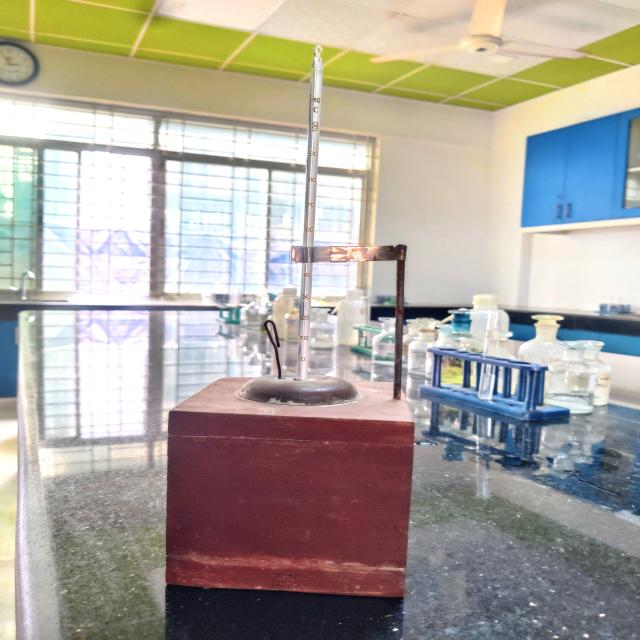Calorimeter: (137, 22, 450, 640)
